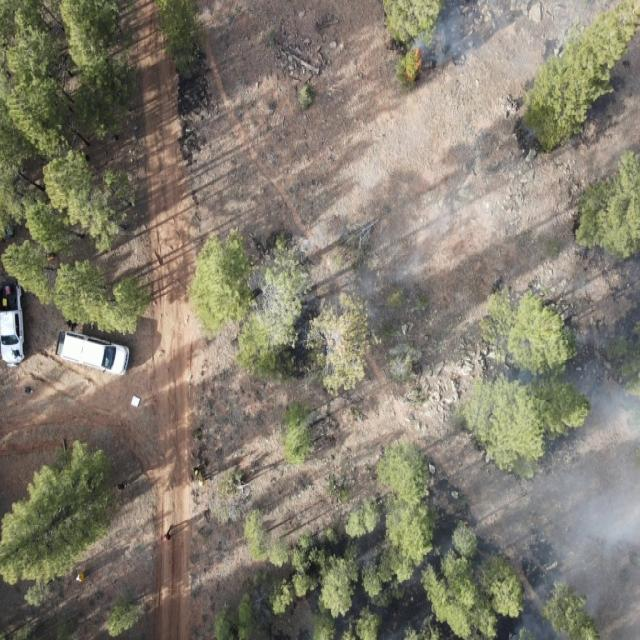fire: (401, 44, 428, 88)
smoke: (408, 460, 640, 640), (247, 244, 435, 371), (479, 320, 640, 459), (400, 0, 594, 80), (590, 258, 640, 318)
